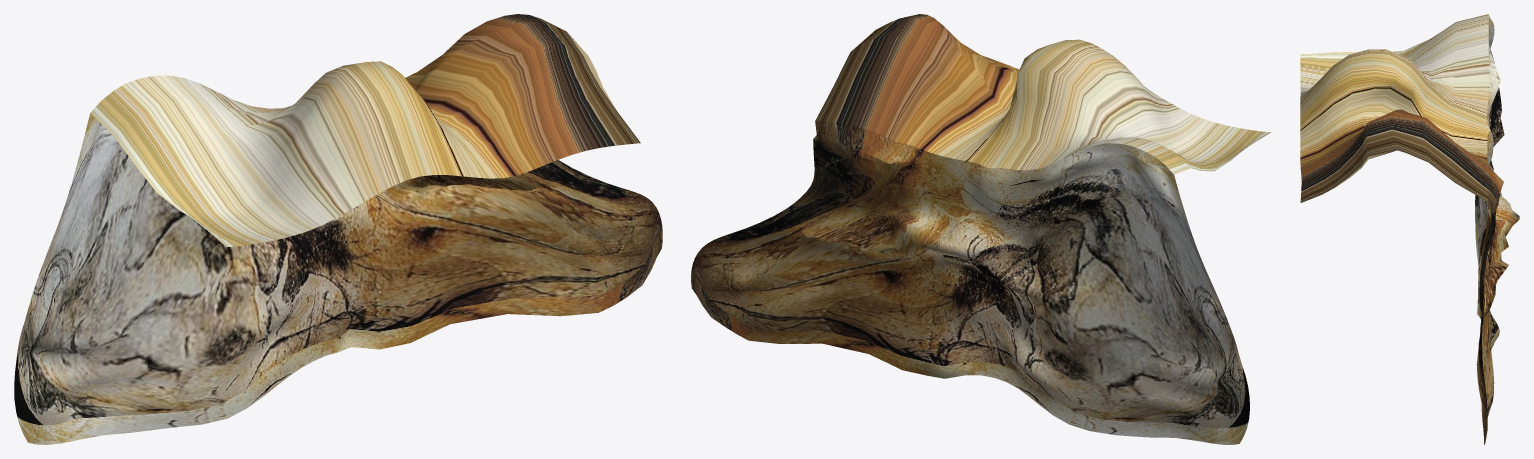
The model's file is cave01.fbx.
3 views of the same model, side by side, from view 1: azimuth 30°, elevation 25°; view 2: azimuth 150°, elevation 25°; view 3: azimuth 270°, elevation 25° (orthographic). The views are drawn at different scales.
Visible parts, largest first — view 1: pPlane1; view 2: pPlane1; view 3: pPlane1.
Part boxes in pixels (left/top/right/bottom): pPlane1: left=14, top=14, right=662, bottom=444; pPlane1: left=691, top=14, right=1271, bottom=444; pPlane1: left=1300, top=14, right=1519, bottom=444.
Size of the model in its own units: 32.74 by 18.22 by 12.75.
1 material, 1 textured.
